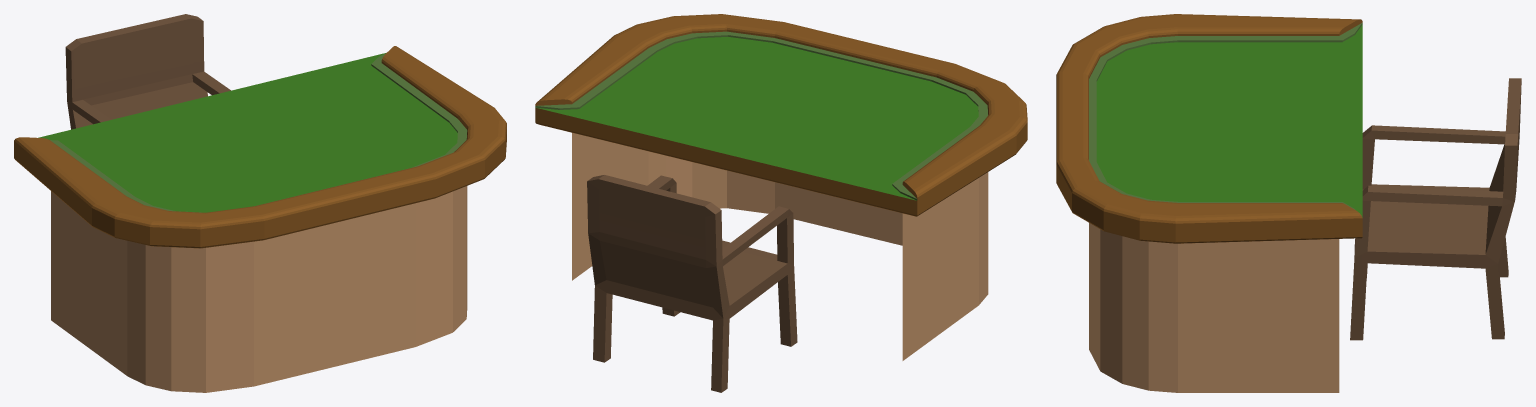
The model's file is table-chair.fbx.
The picture shows the model from 3 angles, left to right: view 1: azimuth 30°, elevation 25°; view 2: azimuth 150°, elevation 25°; view 3: azimuth 270°, elevation 25°; orthographic projection. The views are drawn at different scales.
Parts seen in each view (by area): view 1: table, chair; view 2: table, chair; view 3: table, chair.
Boxes of the visible parts, x1,y1,x2,y2 form: table: [14, 46, 506, 392]; chair: [65, 14, 230, 129]; table: [535, 14, 1027, 360]; chair: [587, 175, 797, 392]; table: [1056, 14, 1362, 392]; chair: [1350, 78, 1521, 340].
Size of the model in its own units: 206 by 93.28 by 195.
